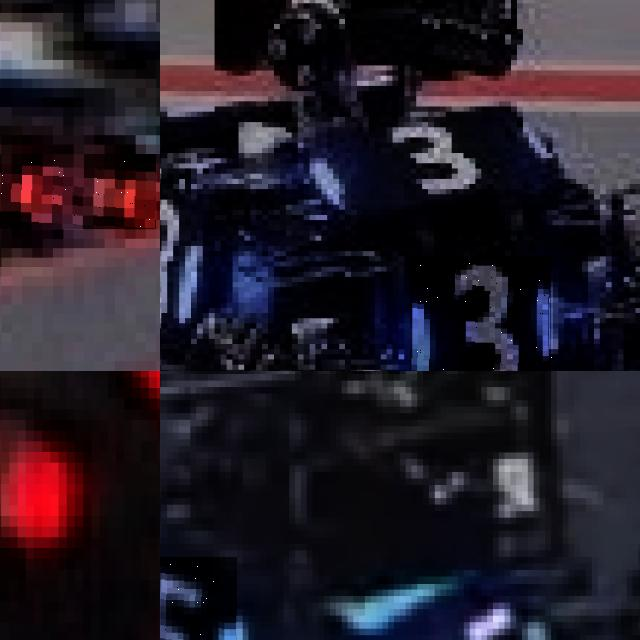B3: (292, 117, 564, 205), (410, 256, 552, 371), (160, 184, 203, 344)
B5: (160, 556, 236, 640)
R2: (0, 153, 156, 229)
